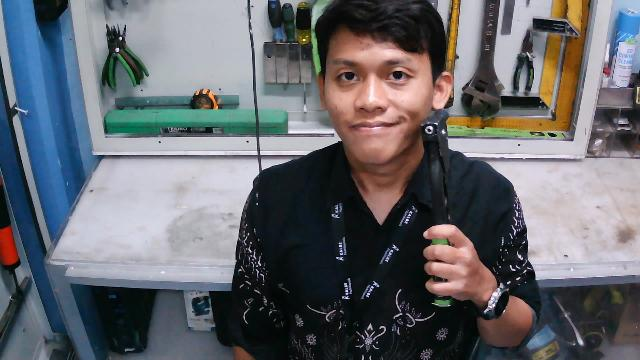tang_rivet: (423, 106, 468, 310)
